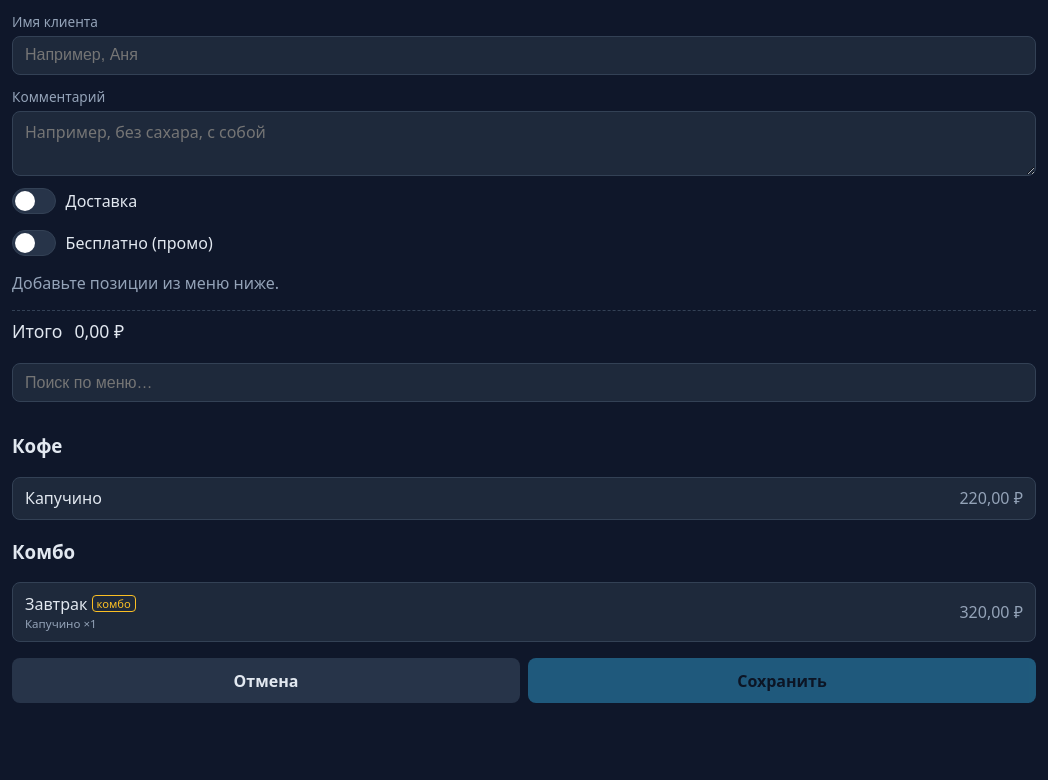
Test: OrderForm › decrementing quantity keeps the line name and price intact
Click the button with class "menu-item" showing "Капучино 220,00 ₽": (63, 498) 12,477 -> 1036,520
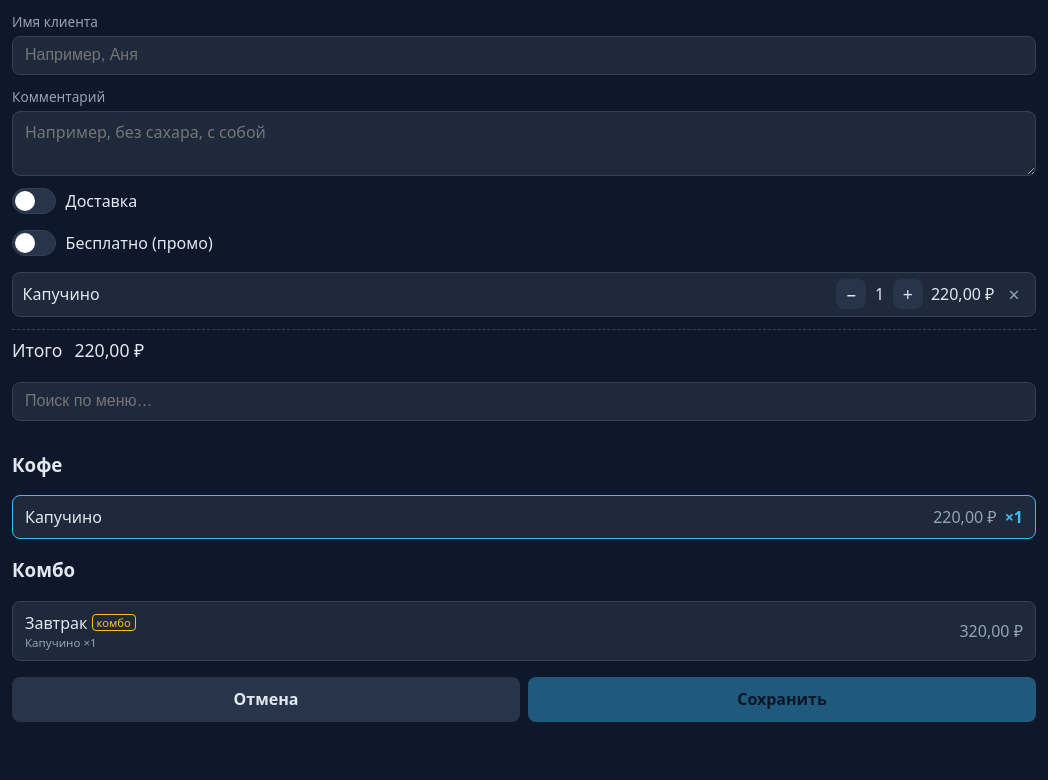
Click the button with class "menu-item" showing "Капучино 220,00 ₽ ×1": (63, 517) 12,495 -> 1036,539
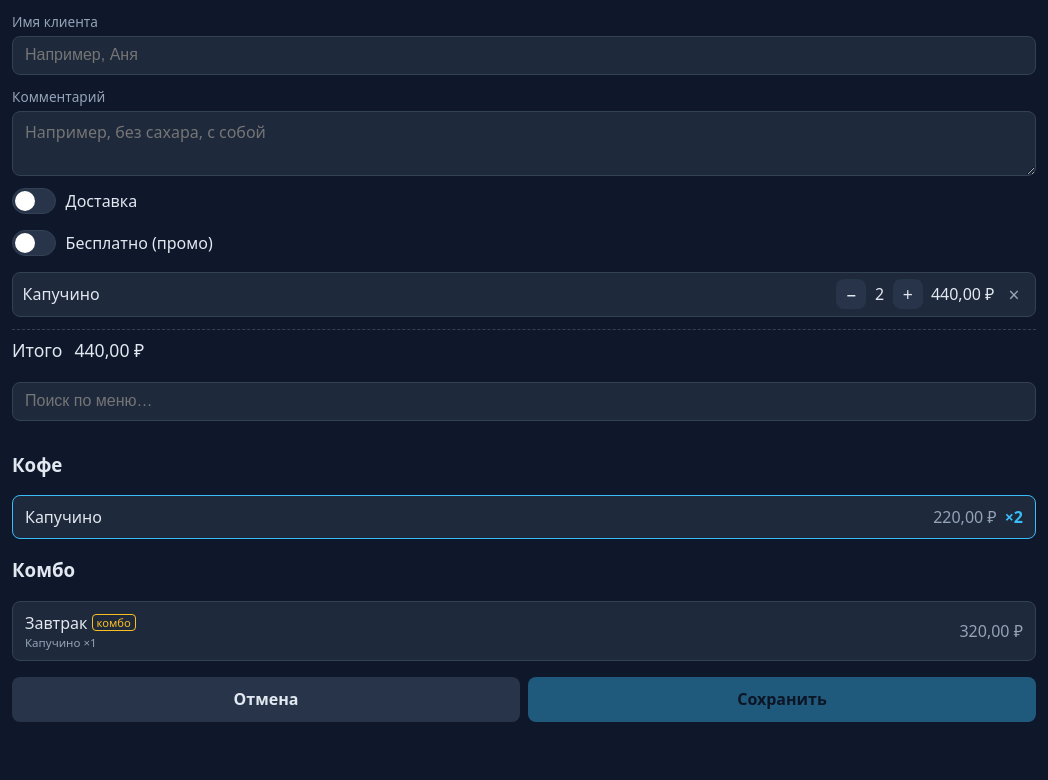
Click the button "−": (851, 294) 836,279 -> 866,309
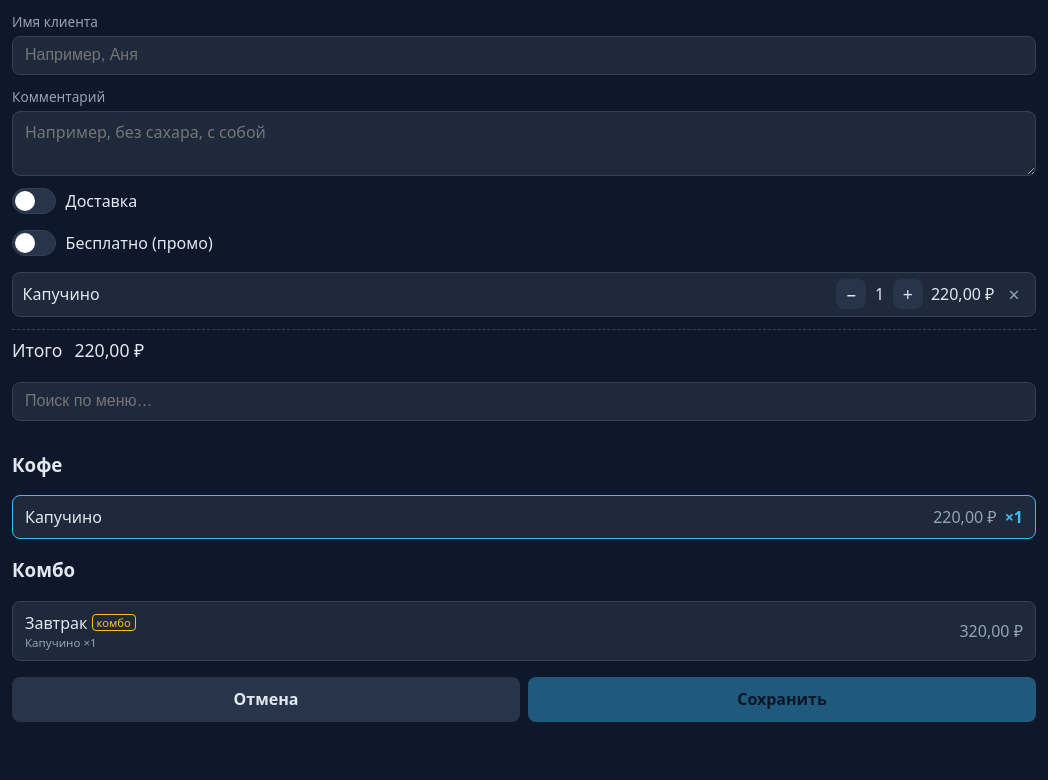
expect the text with class "cart-name" reads "Капучино": met, box 23,283 -> 100,305
expect the text "1" is shown: met, box 875,283 -> 884,305
expect the text with class "cart-total" shows "220": met, box 931,283 -> 994,305
